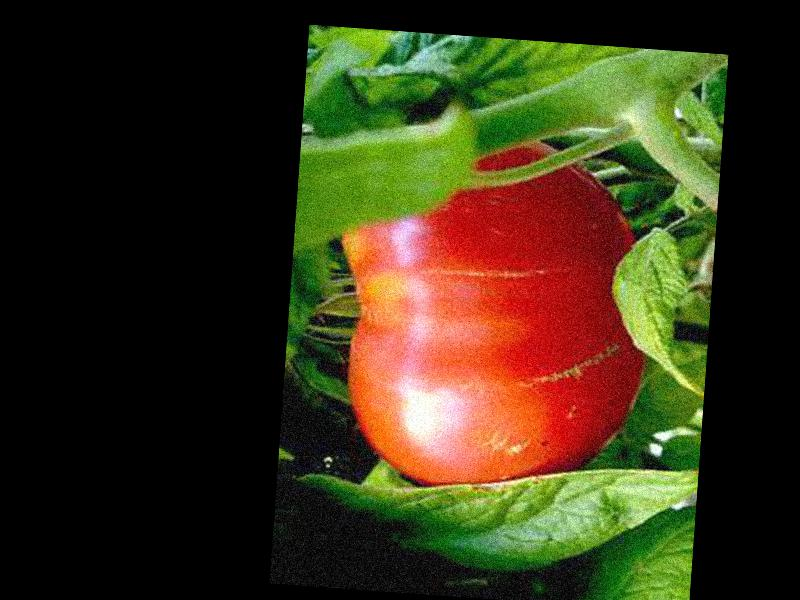Tomato: (323, 129, 658, 503)
